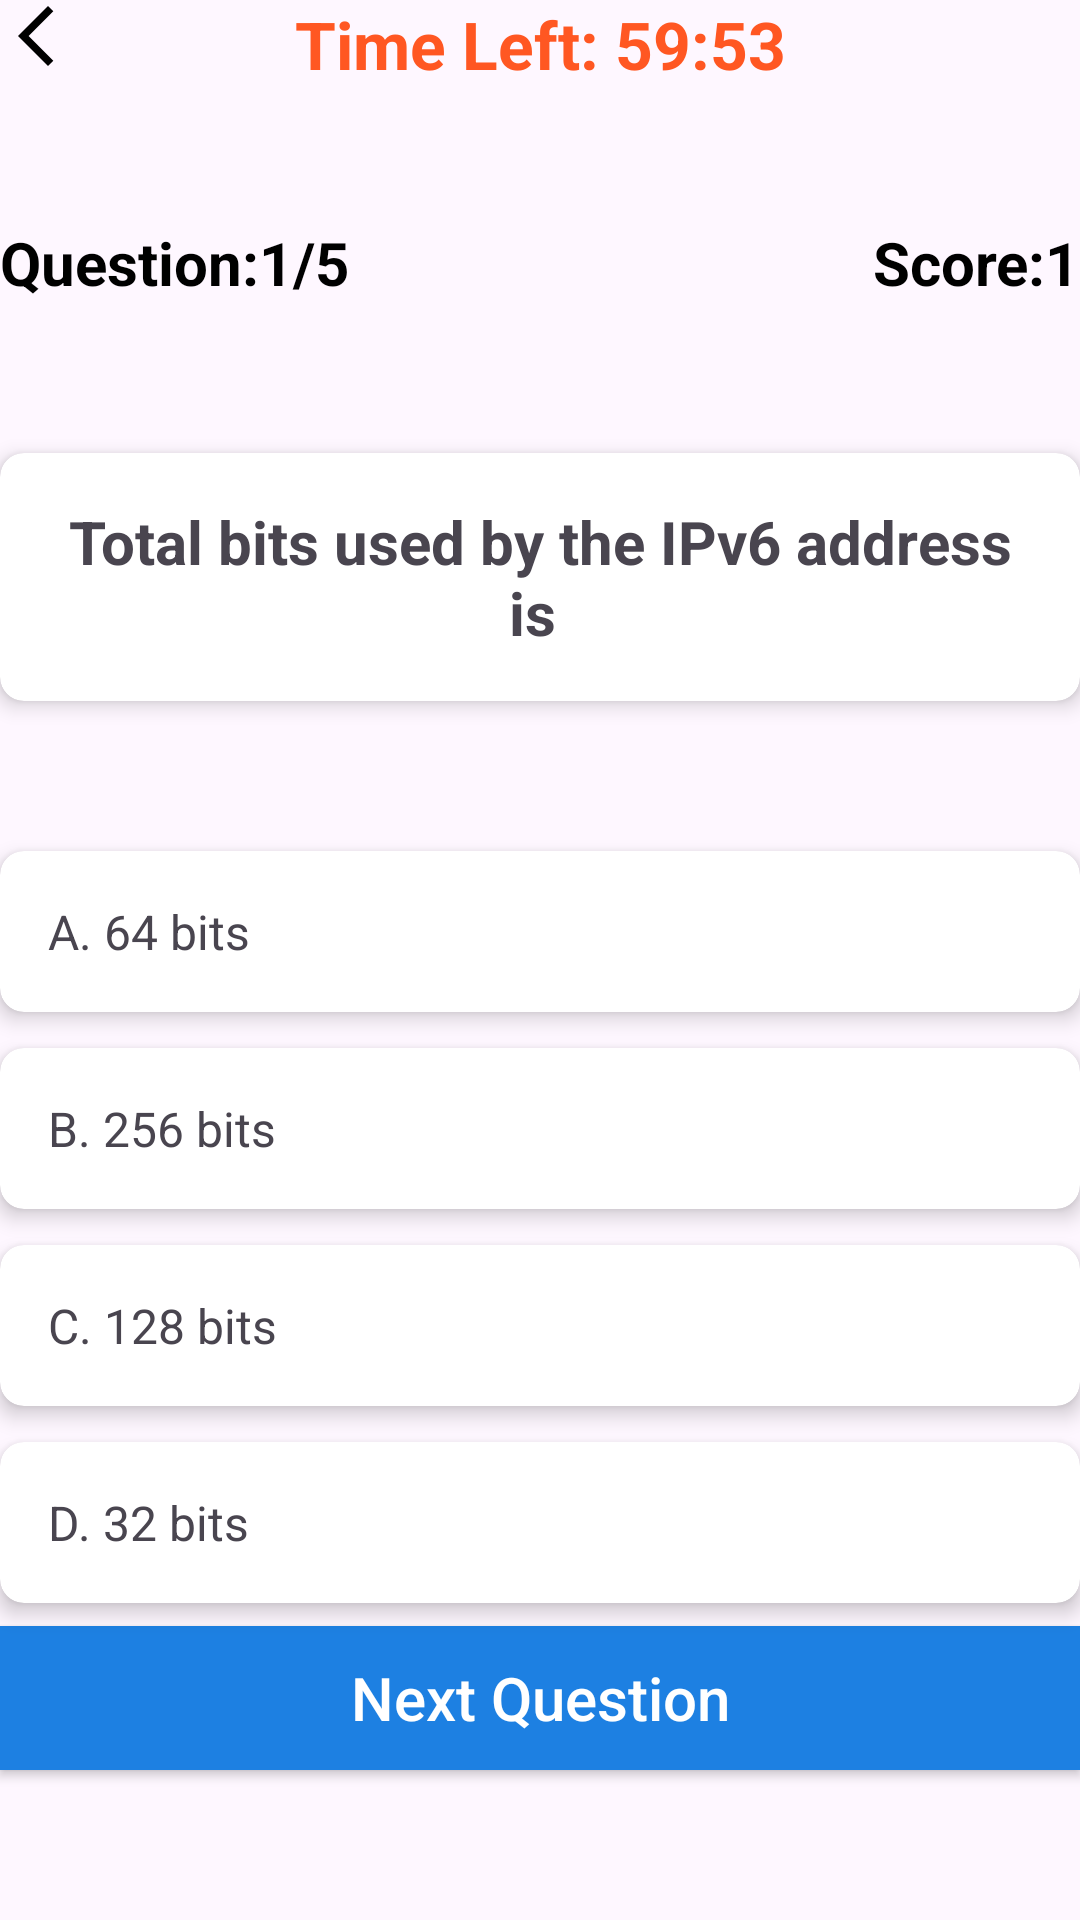

Where icons sit on this 1080w x 1920h app screen, as bbox=(x1, y1, x2, y2):
Back: bbox=(18, 6, 53, 66)
